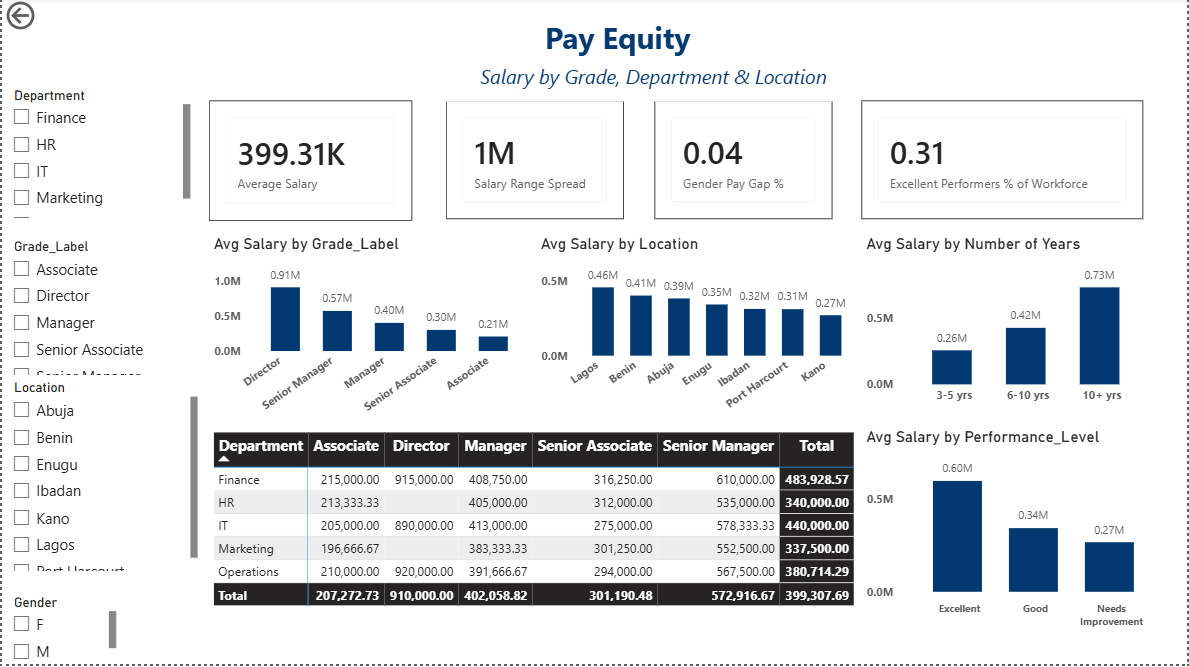

What the dashboard file says about the page in this screenshot:
{"tool":"powerbi","page":{"name":"Pay Equity","canvas":[1280,720],"ordinal":2},"visuals":[{"type":"cardVisual","fields":{"Data":["Measure.Salary Range Spread"]},"box":[480,112,192,128],"z":0},{"type":"cardVisual","fields":{"Data":["Staff_Records.Average Salary"]},"box":[224,112,219,130],"z":1000},{"type":"cardVisual","fields":{"Data":["Measure.Excellent Performers % of Workforce"]},"box":[928,112,304,128],"z":2000},{"type":"cardVisual","fields":{"Data":["Measure.Gender Pay Gap %"]},"box":[704,112,192,128],"z":3000},{"type":"actionButton","box":[0,0,100,40],"z":4000},{"type":"pivotTable","fields":{"Rows":["Staff_Records.Department"],"Columns":["Staff_Records.Grade_Label"],"Values":["Measure.Avg Salary"]},"box":[224,464,704,208],"z":5000},{"type":"clusteredColumnChart","fields":{"Y":["Measure.Avg Salary"],"Category":["Staff_Records.Grade_Label"]},"box":[224,256,352,208],"z":6000},{"type":"textbox","box":[576,16,176,64],"z":7000},{"type":"textbox","box":[480,64,448,48],"z":8000},{"type":"clusteredColumnChart","title":"Avg Salary by Number of Years","fields":{"Y":["Measure.Avg Salary"],"Category":["Staff_Records.Tenure Band"]},"box":[928,256,320,192],"z":9000},{"type":"clusteredColumnChart","fields":{"Y":["Measure.Avg Salary"],"Category":["Staff_Records.Performance_Level"]},"box":[928,464,336,224],"z":10000},{"type":"slicer","fields":{"Values":["Staff_Records.Department"]},"box":[0,93,208,150],"z":11000},{"type":"slicer","fields":{"Values":["Staff_Records.Grade_Label"]},"box":[0,256,208,256],"z":12000},{"type":"slicer","fields":{"Values":["Staff_Records.Location"]},"box":[0,408,216,216],"z":13000},{"type":"clusteredColumnChart","fields":{"Y":["Measure.Avg Salary"],"Category":["Staff_Records.Location"]},"box":[576,256,352,208],"z":14000},{"type":"slicer","fields":{"Values":["Staff_Records.Gender"]},"box":[0,640,128,80],"z":15000}]}

Visuals, with their boxes in screenshot pixels (x1, y1, x2, y2), scaled from the page's 1280x720 canvas onto the 1189x667 screenshot:
cardVisual - Measure.Salary Range Spread: 446:104:624:222
cardVisual - Staff_Records.Average Salary: 208:104:412:224
cardVisual - Measure.Excellent Performers % of Workforce: 862:104:1144:222
cardVisual - Measure.Gender Pay Gap %: 654:104:832:222
actionButton: 0:0:93:37
pivotTable - Staff_Records.Department x Staff_Records.Grade_Label: 208:430:862:623
clusteredColumnChart - Measure.Avg Salary x Staff_Records.Grade_Label: 208:237:535:430
textbox: 535:15:699:74
textbox: 446:59:862:104
"Avg Salary by Number of Years" clusteredColumnChart: 862:237:1159:415
clusteredColumnChart - Measure.Avg Salary x Staff_Records.Performance_Level: 862:430:1174:637
slicer - Staff_Records.Department: 0:86:193:225
slicer - Staff_Records.Grade_Label: 0:237:193:474
slicer - Staff_Records.Location: 0:378:201:578
clusteredColumnChart - Measure.Avg Salary x Staff_Records.Location: 535:237:862:430
slicer - Staff_Records.Gender: 0:593:119:666
